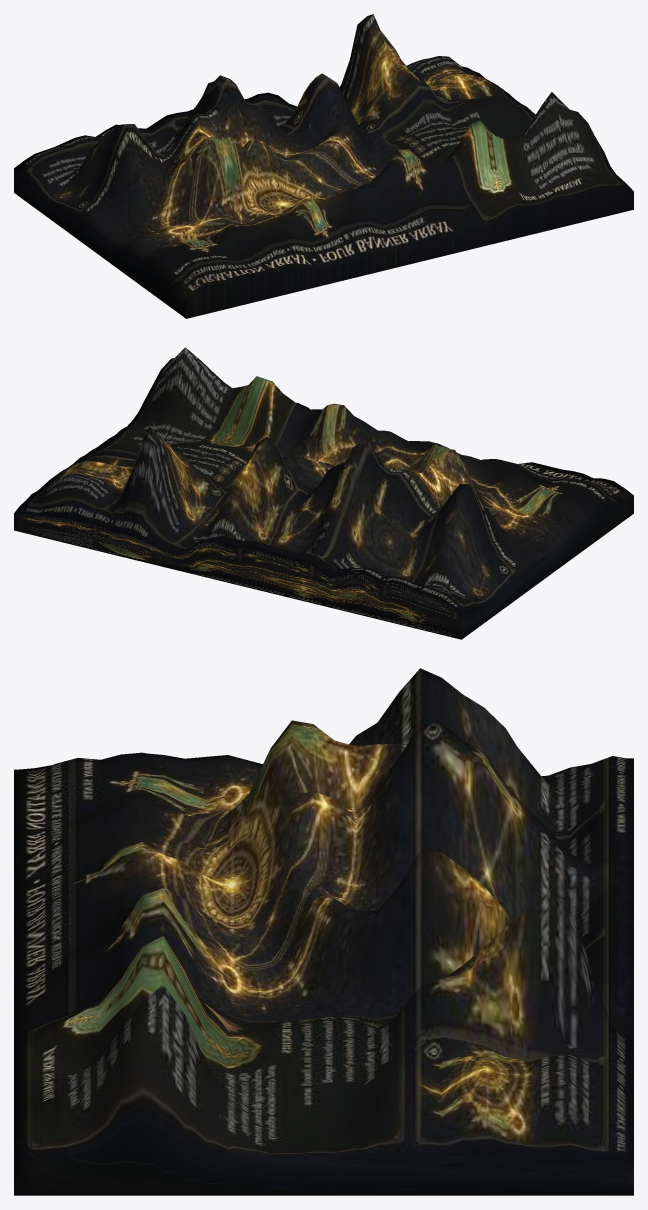
Rendered from CUL_48_Formation_Array.glb.
3 views of the same model, one above another, from view 1: azimuth 30°, elevation 25°; view 2: azimuth 150°, elevation 25°; view 3: azimuth 270°, elevation 25° (orthographic). The views are drawn at different scales.
Visible parts, largest first — view 1: CUL_48_Formation_Array; view 2: CUL_48_Formation_Array; view 3: CUL_48_Formation_Array.
Part boxes in pixels (x1=…): CUL_48_Formation_Array: x1=14, y1=14, x2=633, y2=318; CUL_48_Formation_Array: x1=14, y1=347, x2=633, y2=639; CUL_48_Formation_Array: x1=14, y1=668, x2=633, y2=1195.
Bounding box in the file's own units: 2 × 0.51 × 1.33.
Materials: 1 (1 with a texture image).
